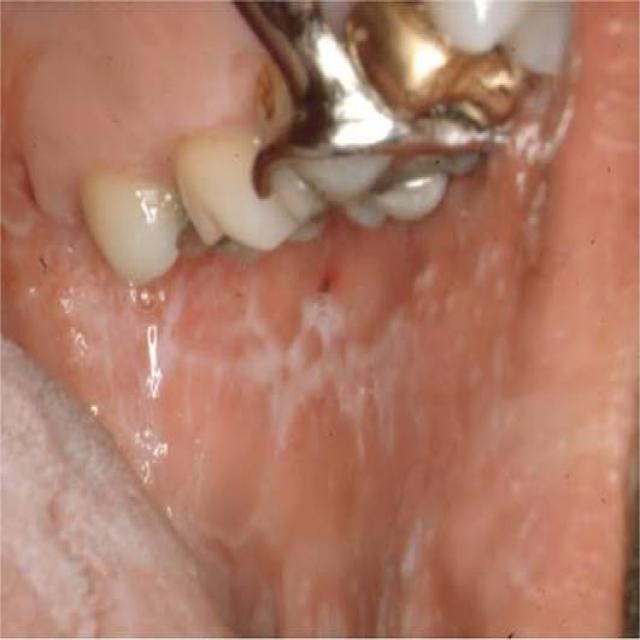leukoplakia-like-detection: (0, 236, 511, 637)
processing_area: (0, 0, 639, 638)
